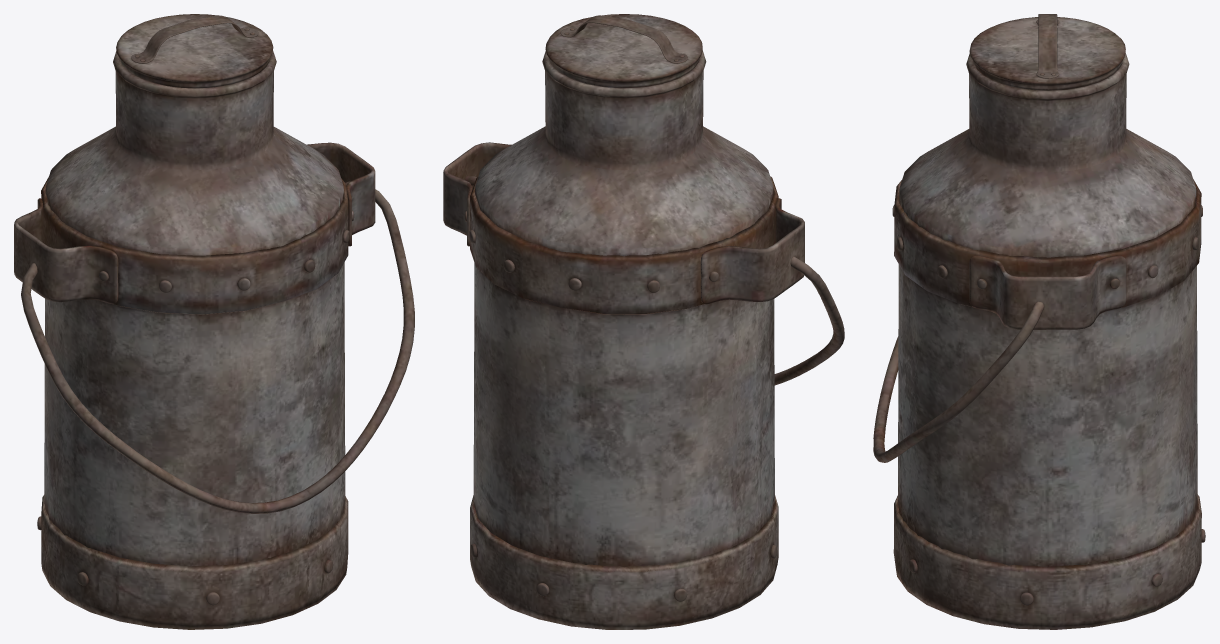
The model's file is vintage_milk_can_-_01-opt.glb.
The picture shows the model from 3 angles, left to right: view 1: azimuth 30°, elevation 25°; view 2: azimuth 150°, elevation 25°; view 3: azimuth 270°, elevation 25°; orthographic projection.
Visible parts, largest first — view 1: Vintage Milk Can_Vintage Milk Can_0; view 2: Vintage Milk Can_Vintage Milk Can_0; view 3: Vintage Milk Can_Vintage Milk Can_0.
Boxes of the visible parts, bbox=[...] form: Vintage Milk Can_Vintage Milk Can_0: bbox=[14, 14, 414, 629]; Vintage Milk Can_Vintage Milk Can_0: bbox=[443, 14, 844, 629]; Vintage Milk Can_Vintage Milk Can_0: bbox=[873, 14, 1205, 629].
Bounding box in the file's own units: 5.33 × 7.43 × 4.14.
Materials: 1 (1 with a texture image).
